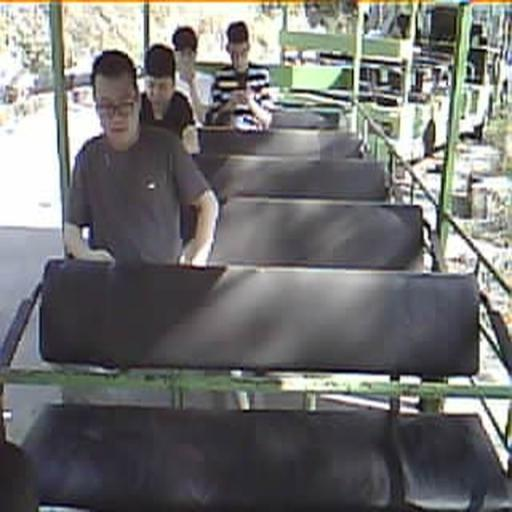persona: (62, 48, 220, 270), (207, 20, 275, 133), (139, 42, 201, 156)
